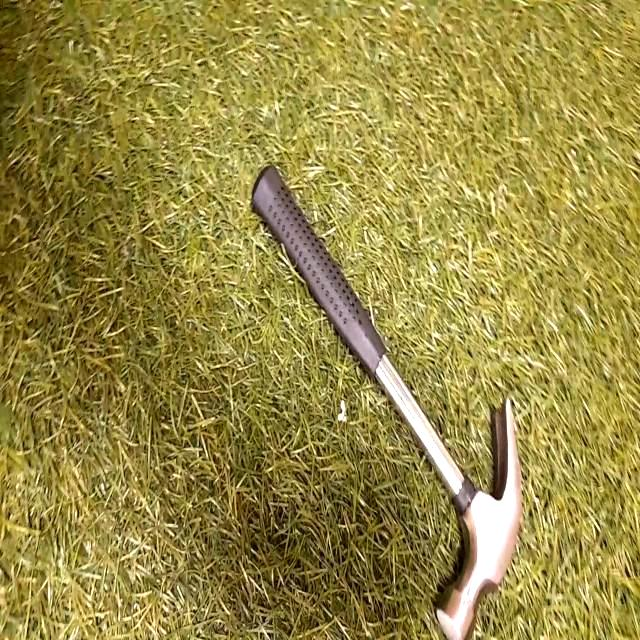hammer: (233, 160, 532, 638)
